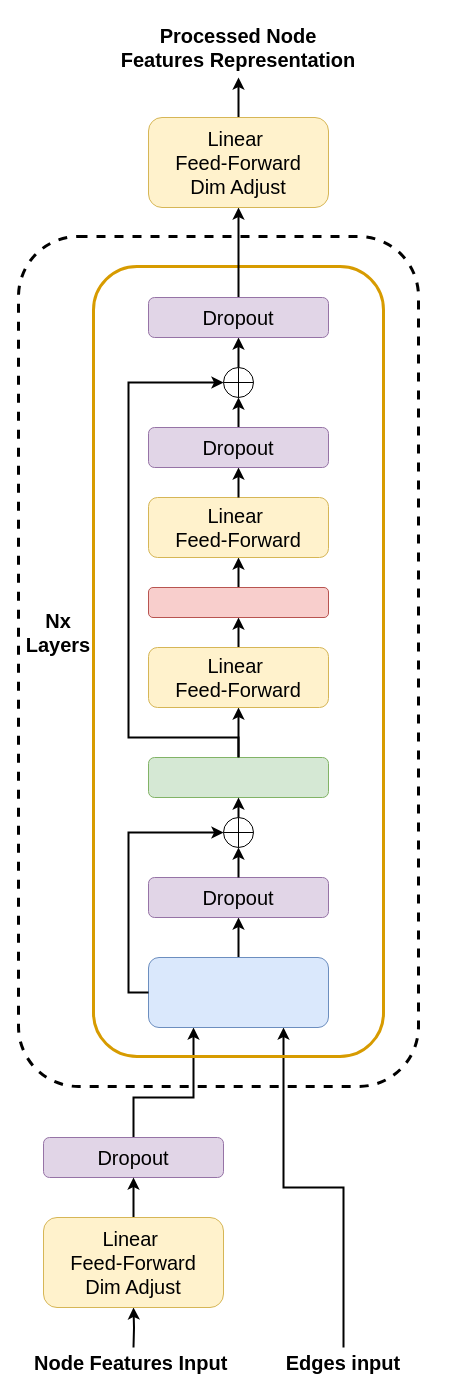
This 456x1394 diagram has some shape labels left out. Each missing label, with the centre of its shape:
"Multi-Headed Graph attention" belongs at (x=238, y=992).
"Norm" belongs at (x=238, y=777).
"ReLU func" belongs at (x=238, y=602).
